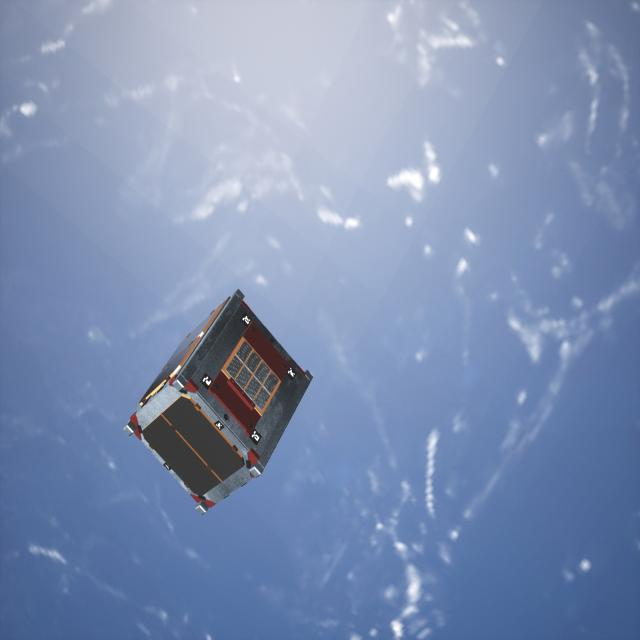medium_debris: (121, 286, 316, 517)
